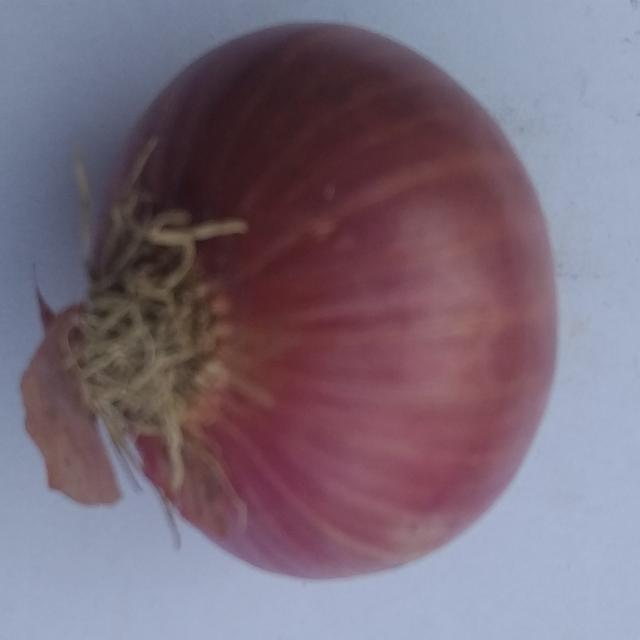onion: (19, 19, 564, 584)
